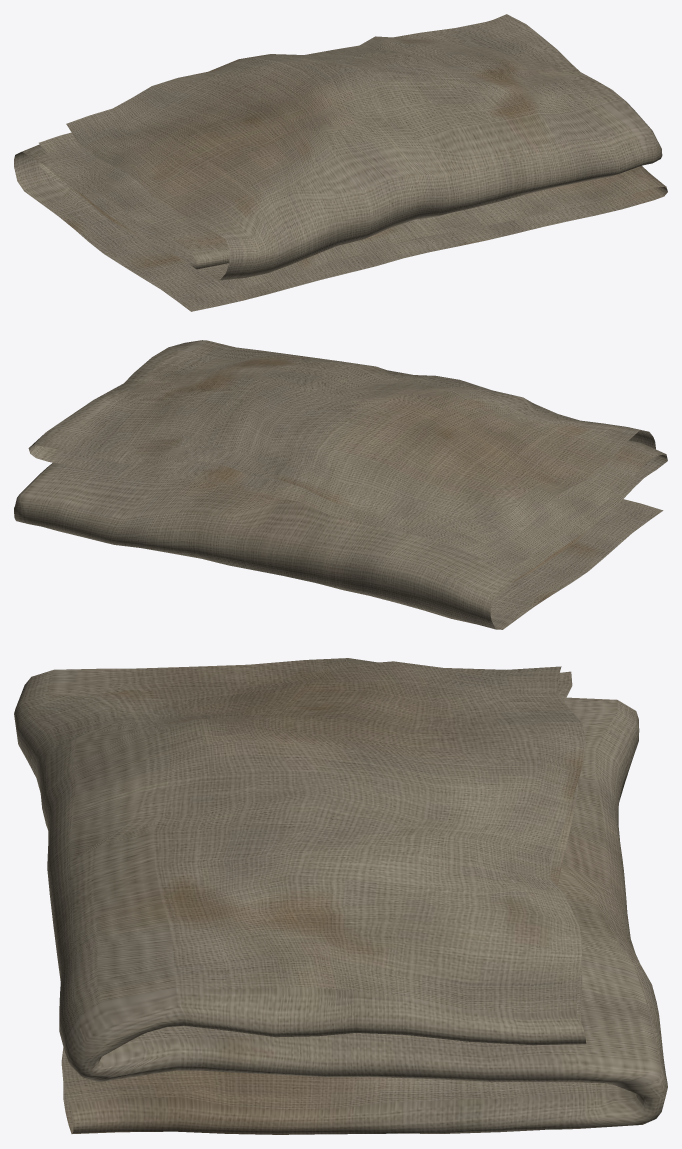
File: rag.glb
The picture shows the model from 3 angles, top to bottom: view 1: azimuth 30°, elevation 25°; view 2: azimuth 150°, elevation 25°; view 3: azimuth 270°, elevation 25°; orthographic projection. The views are drawn at different scales.
Parts seen in each view (by area): view 1: Rag; view 2: Rag; view 3: Rag.
Boxes of the visible parts, box(x1,y1,x2,y2) form: Rag: box(14, 14, 667, 311); Rag: box(14, 340, 667, 629); Rag: box(14, 658, 667, 1134).
Bounding box in the file's own units: 0.1567 × 0.0346 × 0.1125.
Materials: 1 (1 with a texture image).
